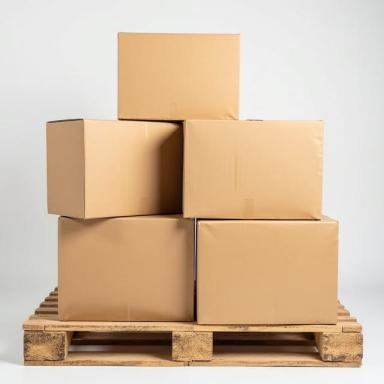pallet: (22, 286, 363, 367), (69, 331, 172, 352), (213, 344, 319, 352)
